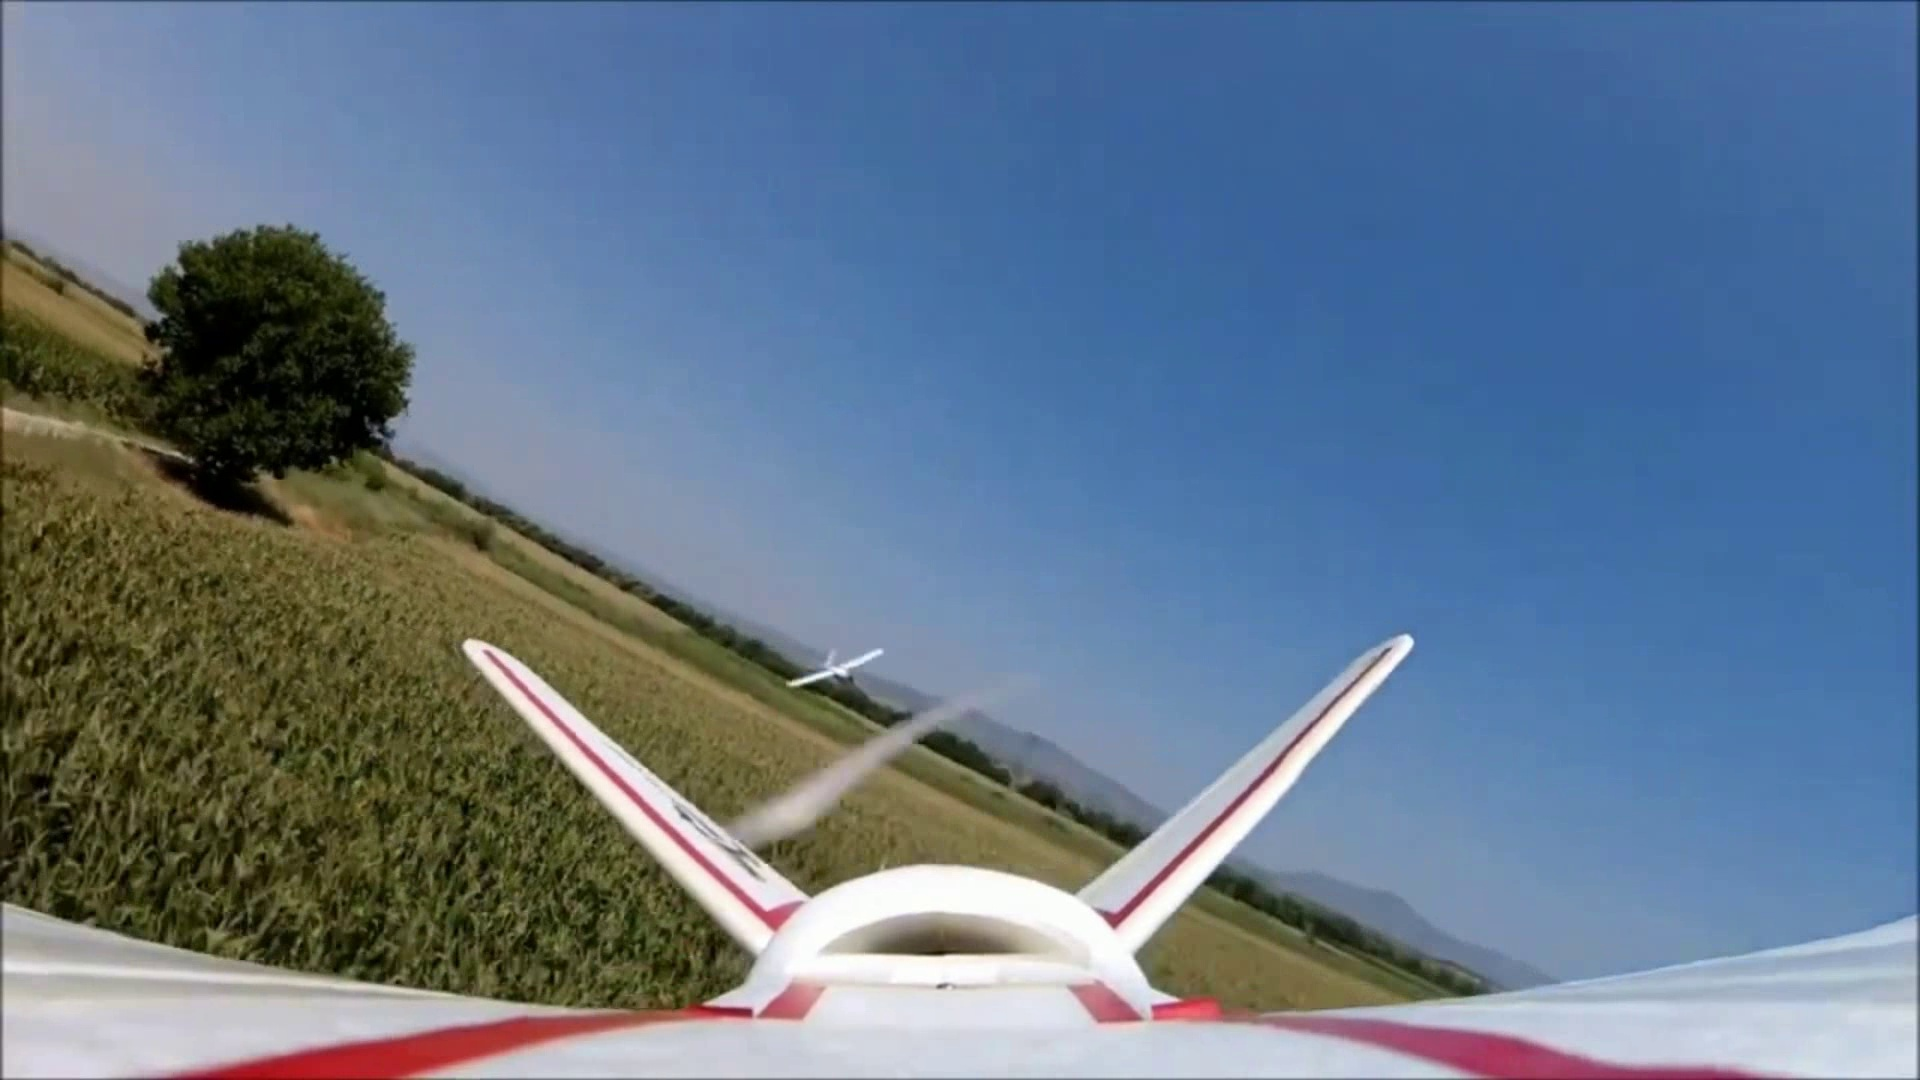airplane: (21, 630, 1896, 1065)
